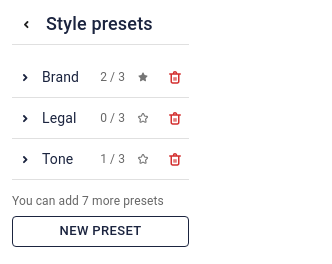
Test: deleting from the list (contract: two presses — the first arms it, renaming the button "Delete <name> — tap again, removes <n> language" and replacing that row' › pressing away from the armed button › disarms when the press lands elsewhere in the list
The image size is (332, 264).
Click the button named "Delete Tone" at (175, 159), box top-left (161, 145), bottom-right (189, 173)
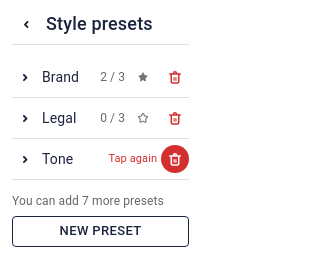
Result: the text "Tap again" is shown at top-left (108, 152), bottom-right (157, 165)
Press the mouse on the button named "Expand Brand — 2 of 3 languages configured" at (47, 77), box top-left (12, 60), bottom-right (81, 94)
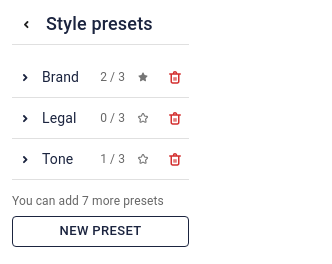
Expected: the button named "Delete Tone" is shown, top-left (161, 145), bottom-right (189, 173)
Result: the text "Tap again" is gone
